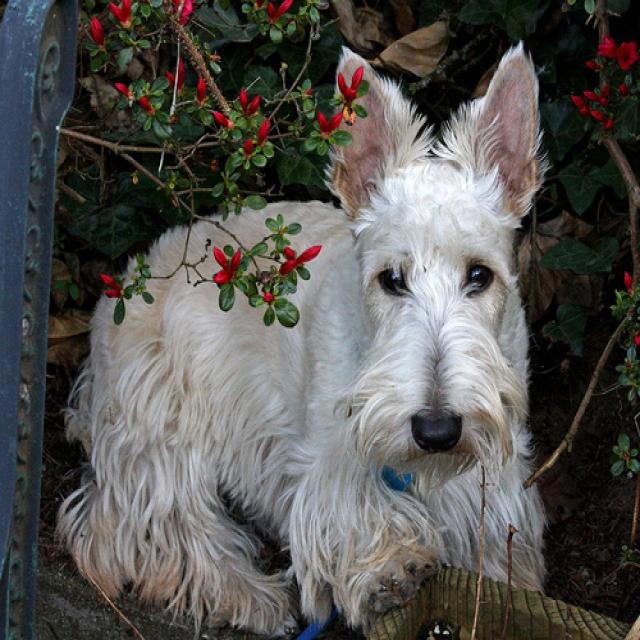dog-scottish_terrier: (41, 31, 559, 637)
